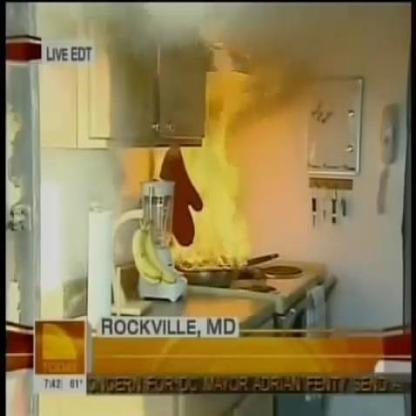fire: (173, 106, 256, 276)
